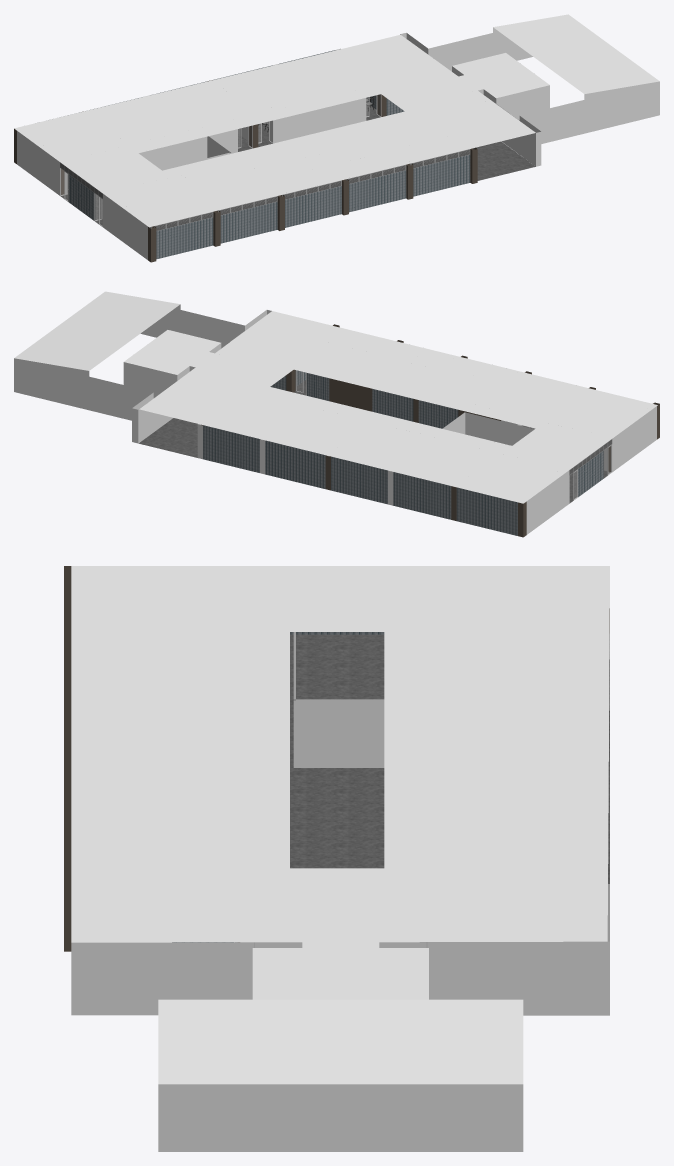
File: EISCFirstFloor.glb
3 views of the same model, one above another, from view 1: azimuth 30°, elevation 25°; view 2: azimuth 150°, elevation 25°; view 3: azimuth 270°, elevation 25° (orthographic). The views are drawn at different scales.
Parts seen in each view (by area): view 1: TopFirstFloor, StructureFirstFloor, FirstFloor; view 2: TopFirstFloor, StructureFirstFloor, FirstFloor; view 3: TopFirstFloor, StructureFirstFloor, FirstFloor.
Part boxes in pixels (x1,y1,x2,y2): TopFirstFloor: [14, 35, 549, 227]; StructureFirstFloor: [14, 14, 659, 262]; FirstFloor: [60, 105, 535, 225]; TopFirstFloor: [124, 311, 657, 503]; StructureFirstFloor: [14, 291, 659, 537]; FirstFloor: [139, 380, 610, 503]; TopFirstFloor: [71, 566, 609, 999]; StructureFirstFloor: [64, 566, 609, 1151]; FirstFloor: [290, 634, 609, 883].
Bounding box in the file's own units: 49.4 × 3.5 × 22.
Materials: 12 (4 with a texture image).
